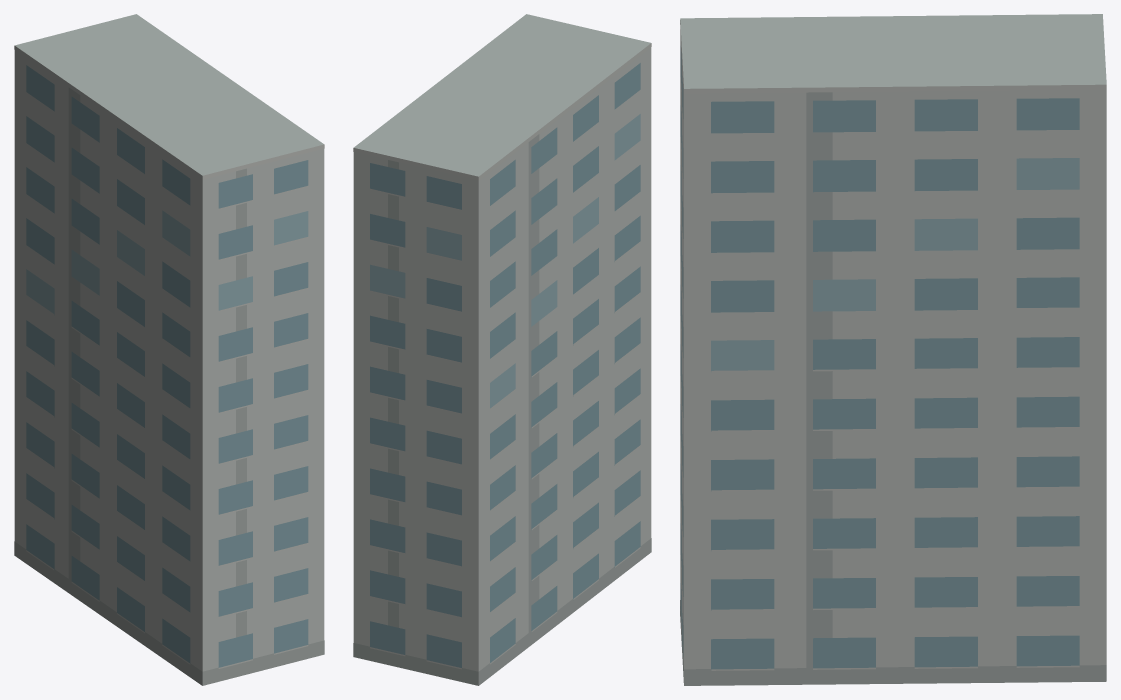
File: residential-c07c49fd-75a4-4b4f-a93f-84de497fafd3.glb
3 renders of one model, left to right at view 1: azimuth 30°, elevation 25°; view 2: azimuth 150°, elevation 25°; view 3: azimuth 270°, elevation 25°, orthographic. The views are drawn at different scales.
Visible parts, largest first — view 1: residential-c07c49fd-75a4-4b4f-a93f-84de497fafd3.tmp; view 2: residential-c07c49fd-75a4-4b4f-a93f-84de497fafd3.tmp; view 3: residential-c07c49fd-75a4-4b4f-a93f-84de497fafd3.tmp.
Part boxes in pixels (box(x1,y1,x2,y2)): residential-c07c49fd-75a4-4b4f-a93f-84de497fafd3.tmp: box(14, 14, 324, 685); residential-c07c49fd-75a4-4b4f-a93f-84de497fafd3.tmp: box(353, 14, 651, 685); residential-c07c49fd-75a4-4b4f-a93f-84de497fafd3.tmp: box(680, 14, 1106, 685).
Size of the model in its own units: 8.08 by 30 by 19.44.
